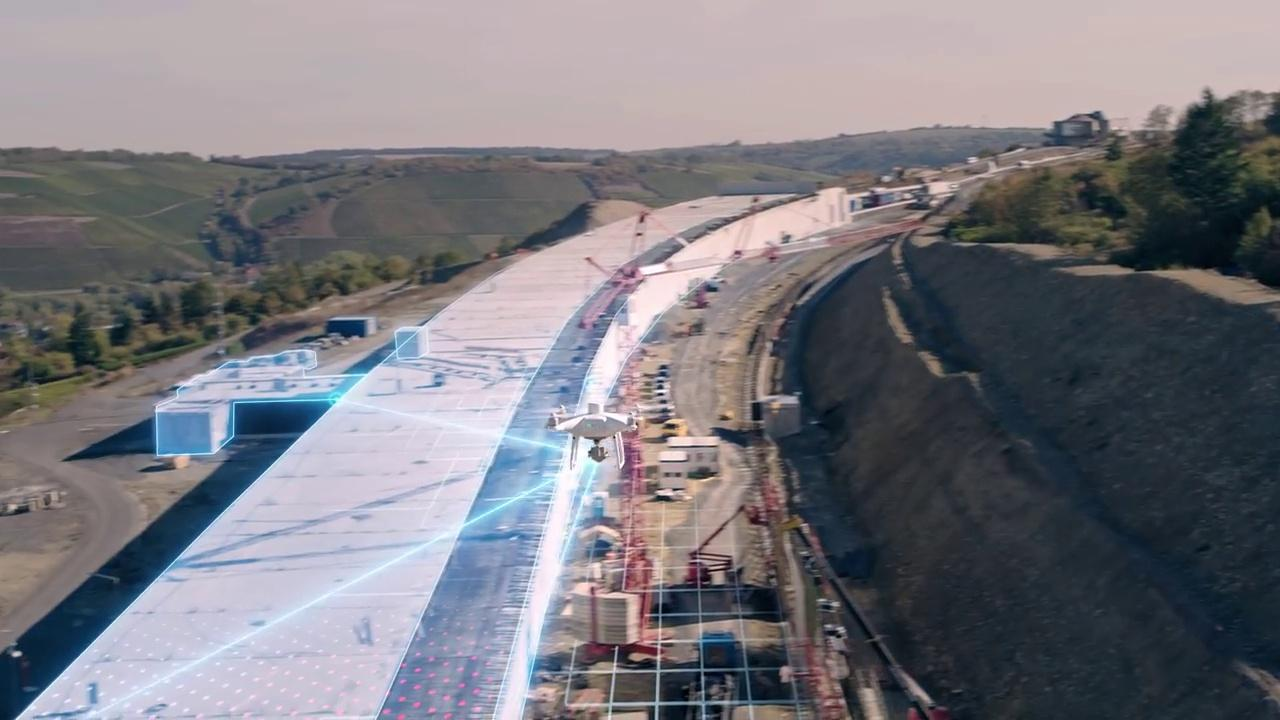drone: (533, 399, 667, 473)
